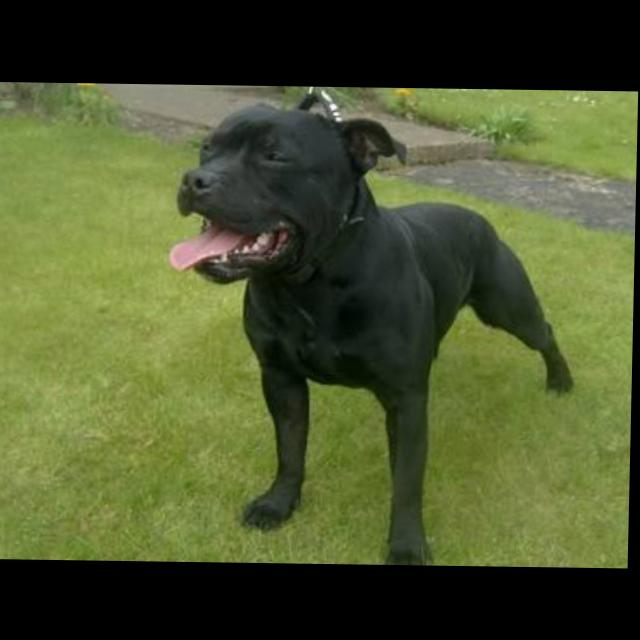staffford: (165, 97, 581, 566)
